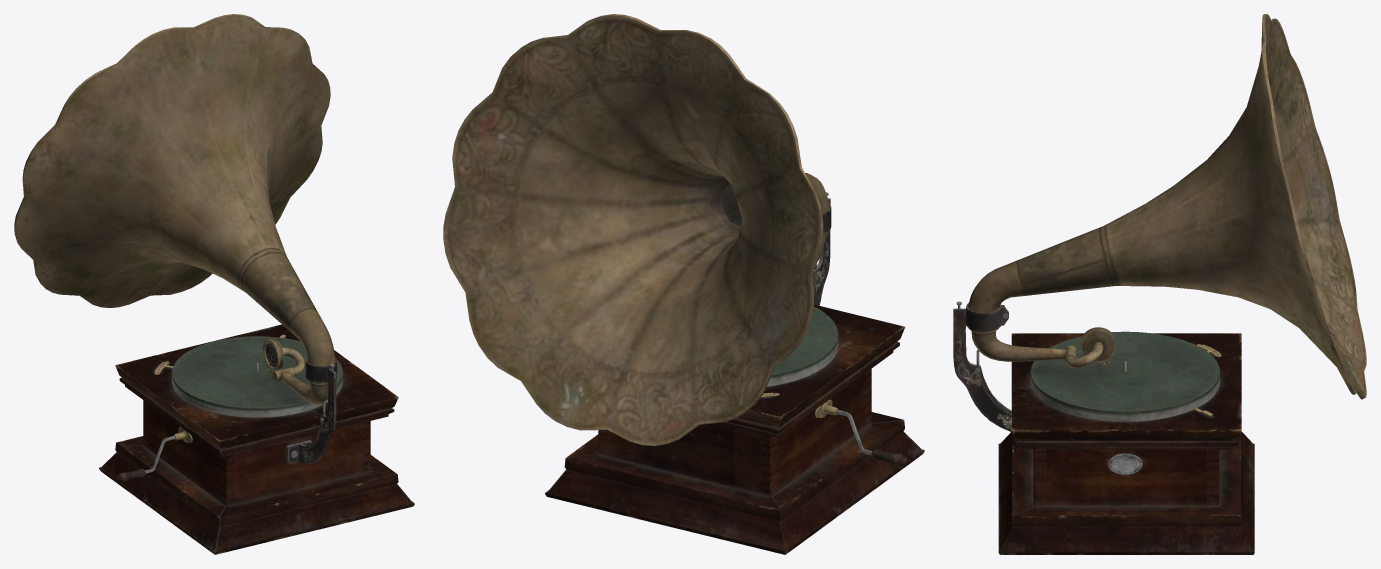
File: gramophone.glb
The picture shows the model from 3 angles, left to right: view 1: azimuth 30°, elevation 25°; view 2: azimuth 150°, elevation 25°; view 3: azimuth 270°, elevation 25°; orthographic projection. The views are drawn at different scales.
Visible parts, largest first — view 1: gramophone; view 2: gramophone; view 3: gramophone.
Boxes of the visible parts, x1,y1,x2,y2 form: gramophone: [14, 14, 414, 554]; gramophone: [443, 14, 924, 554]; gramophone: [953, 14, 1366, 554].
Size of the model in its own units: 0.5332 by 0.7 by 0.5625.
Materials: 1 (1 with a texture image).
